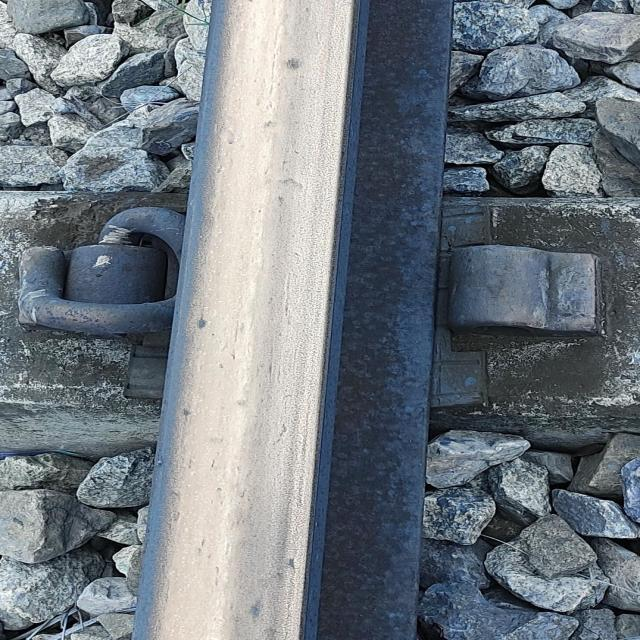Good Fasteners: (18, 207, 185, 336)
Missing Fastener: (427, 220, 613, 361)
